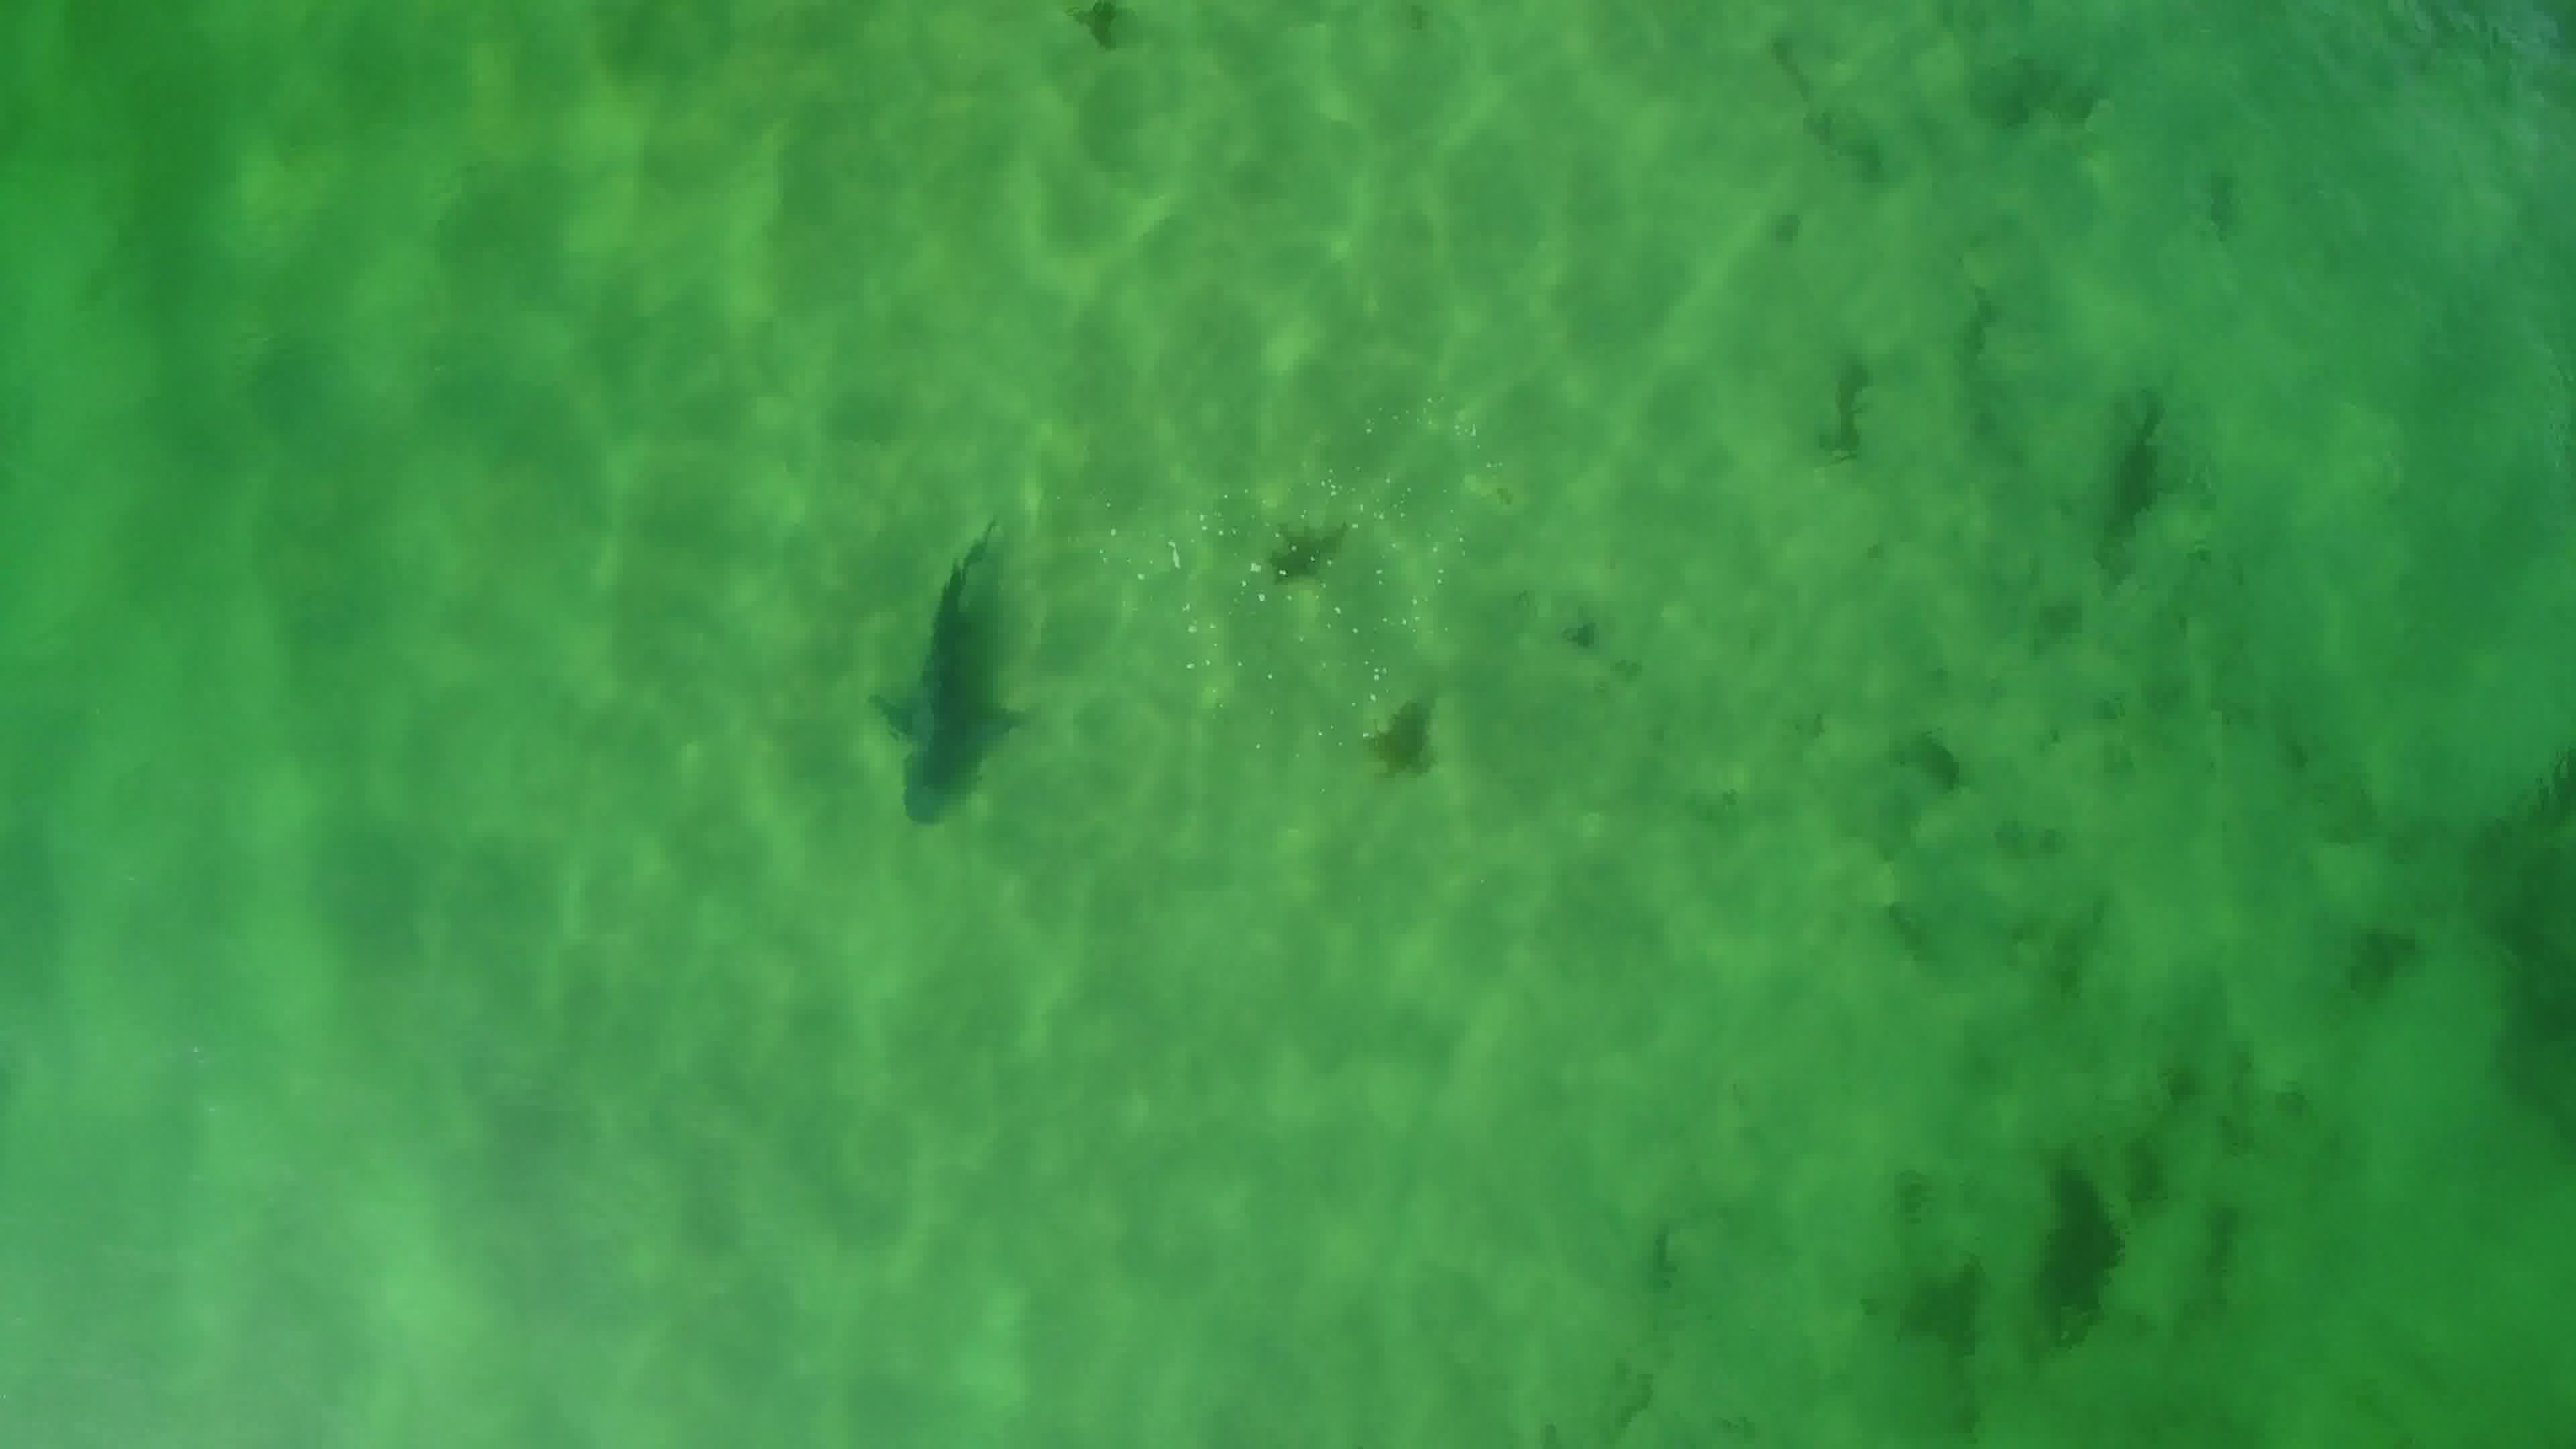shark: (853, 517, 1031, 830)
